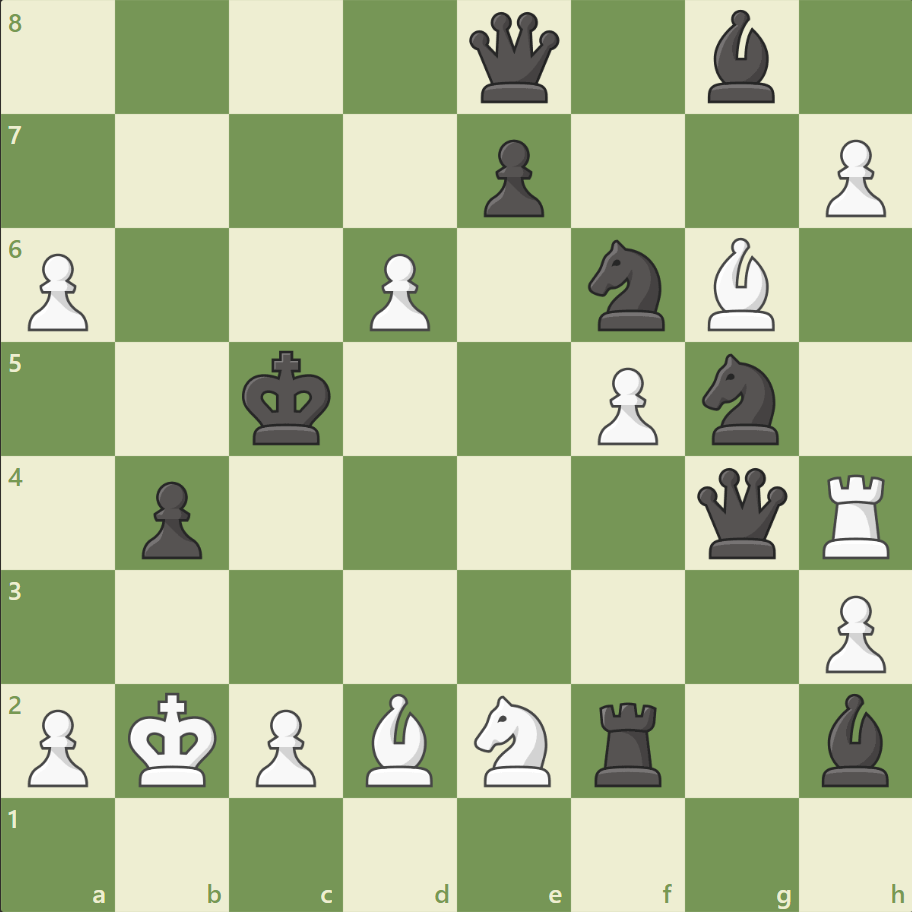B: (698, 233, 782, 336), (358, 687, 442, 790)
K: (124, 685, 224, 793)
N: (465, 688, 562, 791)
P: (20, 246, 95, 337), (20, 700, 95, 791), (247, 700, 322, 791), (815, 132, 889, 223), (361, 246, 435, 337), (588, 359, 662, 450), (815, 586, 889, 677)
R: (814, 466, 897, 563)
b: (698, 6, 782, 109), (812, 687, 896, 790)
k: (238, 344, 338, 452)
n: (579, 234, 676, 337), (692, 348, 789, 450)
p: (474, 132, 549, 223), (133, 473, 208, 564)
q: (464, 9, 563, 108), (691, 463, 790, 562)
r: (587, 693, 670, 790)
